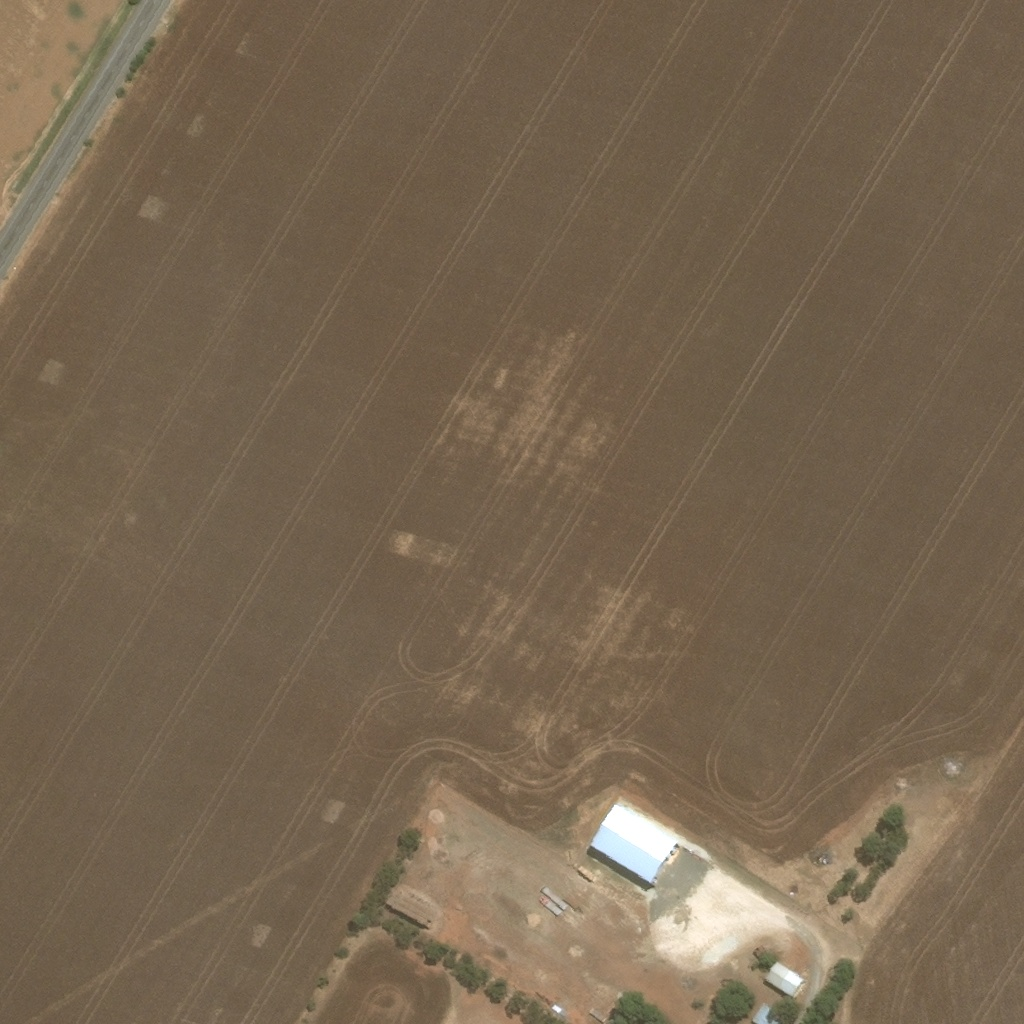0 no-damage: (764, 959, 806, 997), (750, 1001, 793, 1023)
